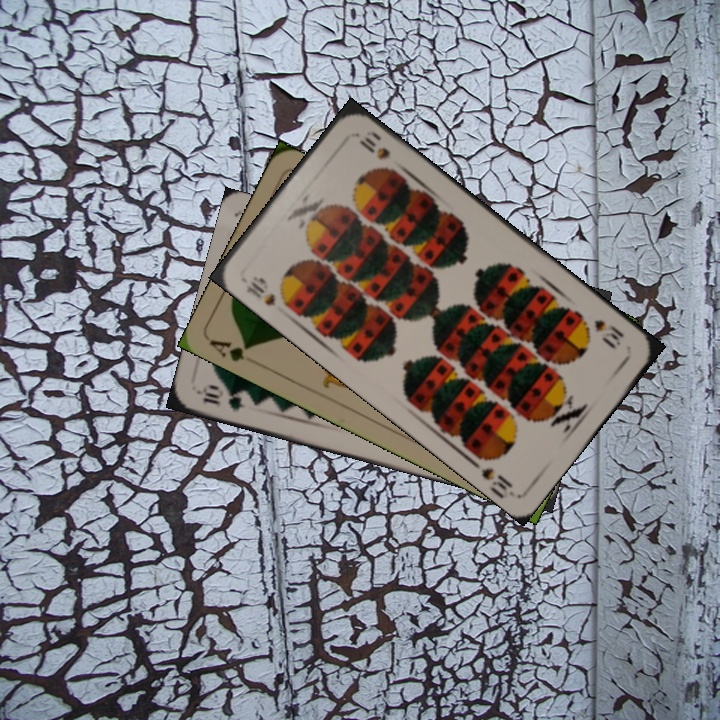G10: (195, 381, 249, 414)
GA: (206, 336, 254, 364)
S10: (241, 272, 292, 311), (590, 315, 627, 351)
